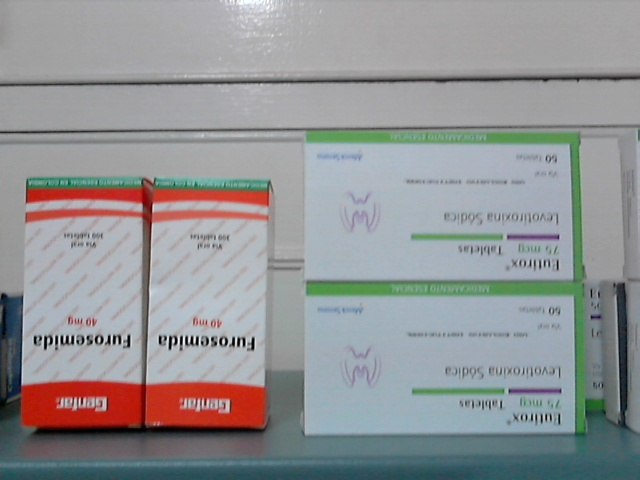Genfar: (22, 178, 143, 425), (144, 178, 263, 426)
